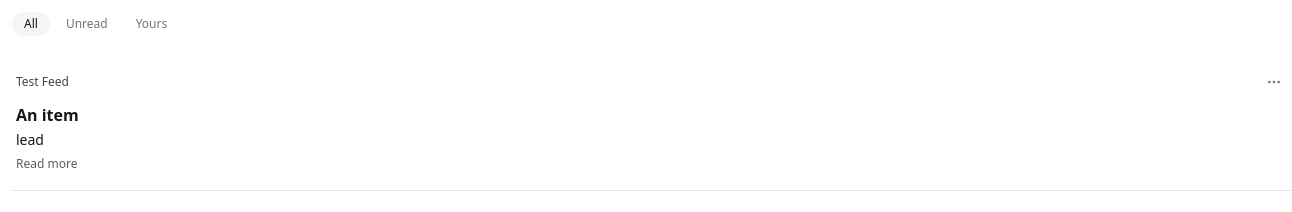
StreamView › expands long items via Read more
Expected: the heading "An item" is shown, [16,104,79,126]
Expected: the text "second paragraph" is not shown
What coordinates should you click on to do the following:
click the button "Read more"
I would click on:
 (47, 164)
Its box is [16,156,77,172].
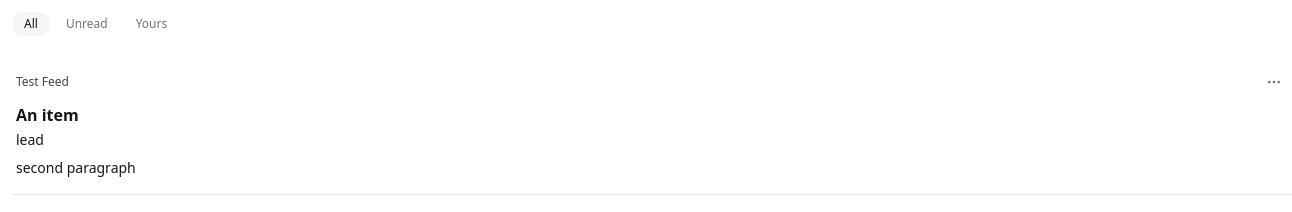
Expected: the text "second paragraph" is shown, [16,158,136,177]
